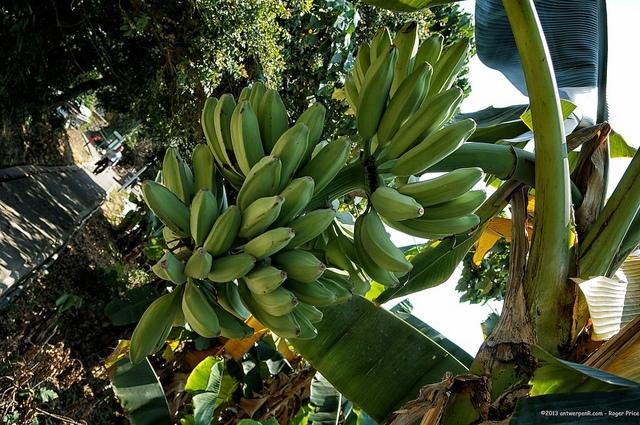banana: (372, 86, 464, 168), (369, 61, 434, 161), (376, 118, 476, 177), (356, 44, 399, 165), (128, 283, 184, 366), (354, 199, 401, 289), (394, 166, 484, 208), (361, 204, 414, 272), (294, 136, 352, 198), (422, 36, 469, 106), (262, 176, 314, 234), (270, 122, 310, 196), (290, 101, 326, 182), (141, 180, 191, 238), (236, 154, 282, 215), (230, 98, 265, 178), (214, 93, 246, 180), (411, 189, 487, 222), (280, 206, 336, 250), (182, 276, 221, 338), (251, 294, 301, 338), (236, 196, 285, 239), (204, 204, 242, 258), (258, 89, 288, 156), (189, 186, 219, 249), (243, 226, 296, 261), (270, 250, 326, 283), (370, 186, 424, 220), (282, 276, 338, 306), (163, 146, 190, 208), (398, 214, 480, 234), (250, 285, 298, 317), (208, 253, 256, 283), (192, 140, 216, 198), (242, 265, 287, 295), (412, 32, 444, 72), (216, 283, 247, 320), (152, 252, 187, 284), (184, 247, 212, 279), (292, 306, 318, 340), (321, 269, 355, 291), (248, 80, 266, 118), (344, 71, 358, 117), (356, 41, 370, 85), (297, 248, 328, 266)
